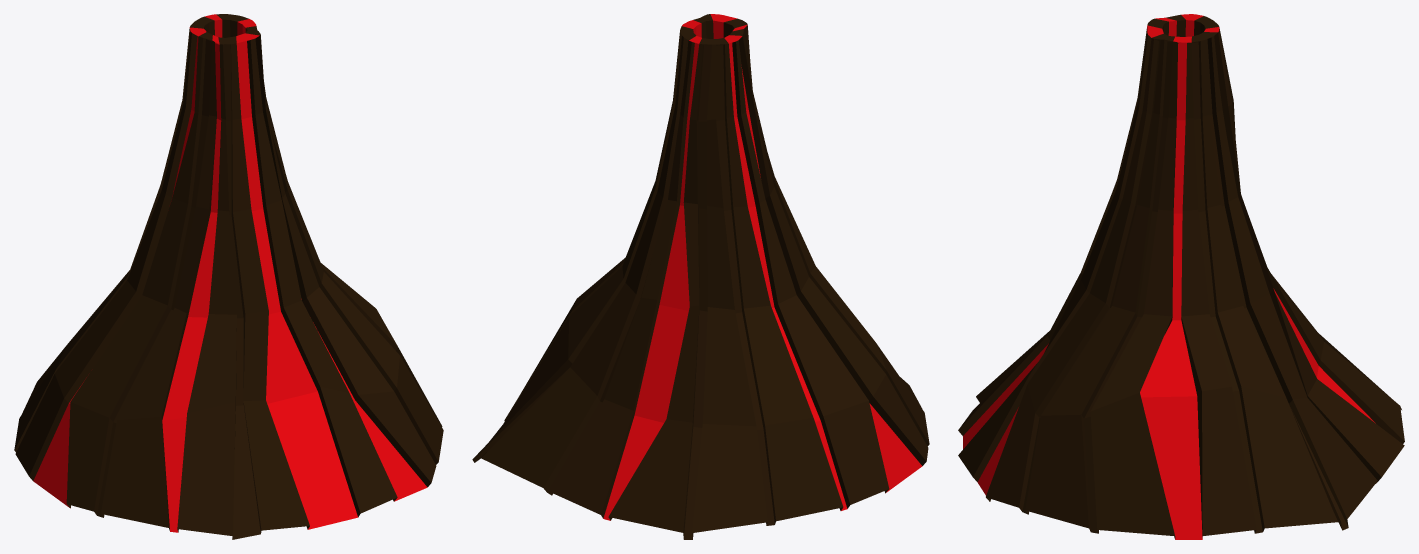
The model's file is Vulcao.fbx.
3 views of the same model, side by side, from view 1: azimuth 30°, elevation 25°; view 2: azimuth 150°, elevation 25°; view 3: azimuth 270°, elevation 25° (orthographic). The views are drawn at different scales.
Visible parts, largest first — view 1: Casco; view 2: Casco; view 3: Casco.
Boxes of the visible parts, box(x1,y1,x2,y2) form: Casco: box(14, 14, 443, 539); Casco: box(472, 14, 929, 539); Casco: box(958, 14, 1404, 539).
Bounding box in the file's own units: 725 × 768 × 740.
